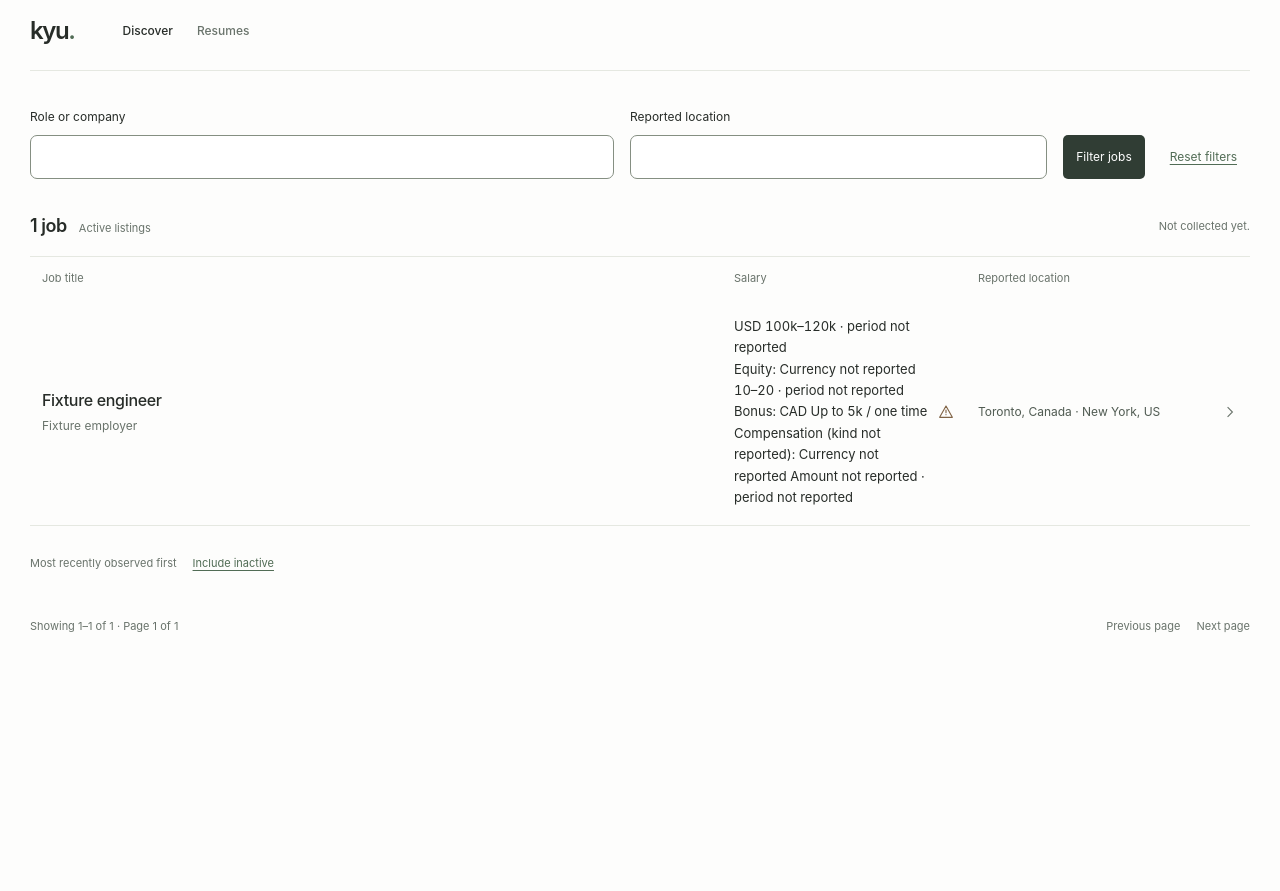
Test case: JobCatalog › preserves Greenhouse period unknown, component kinds and missing currencies; labels potentially stale pay
Expected: the picture named "previously collected pay may be stale" is shown, [938,404,954,420]
Click the heading that starts with "Fixture engineer".
click(640, 412)  # box [30,300,1250,524]
(page scrolled)
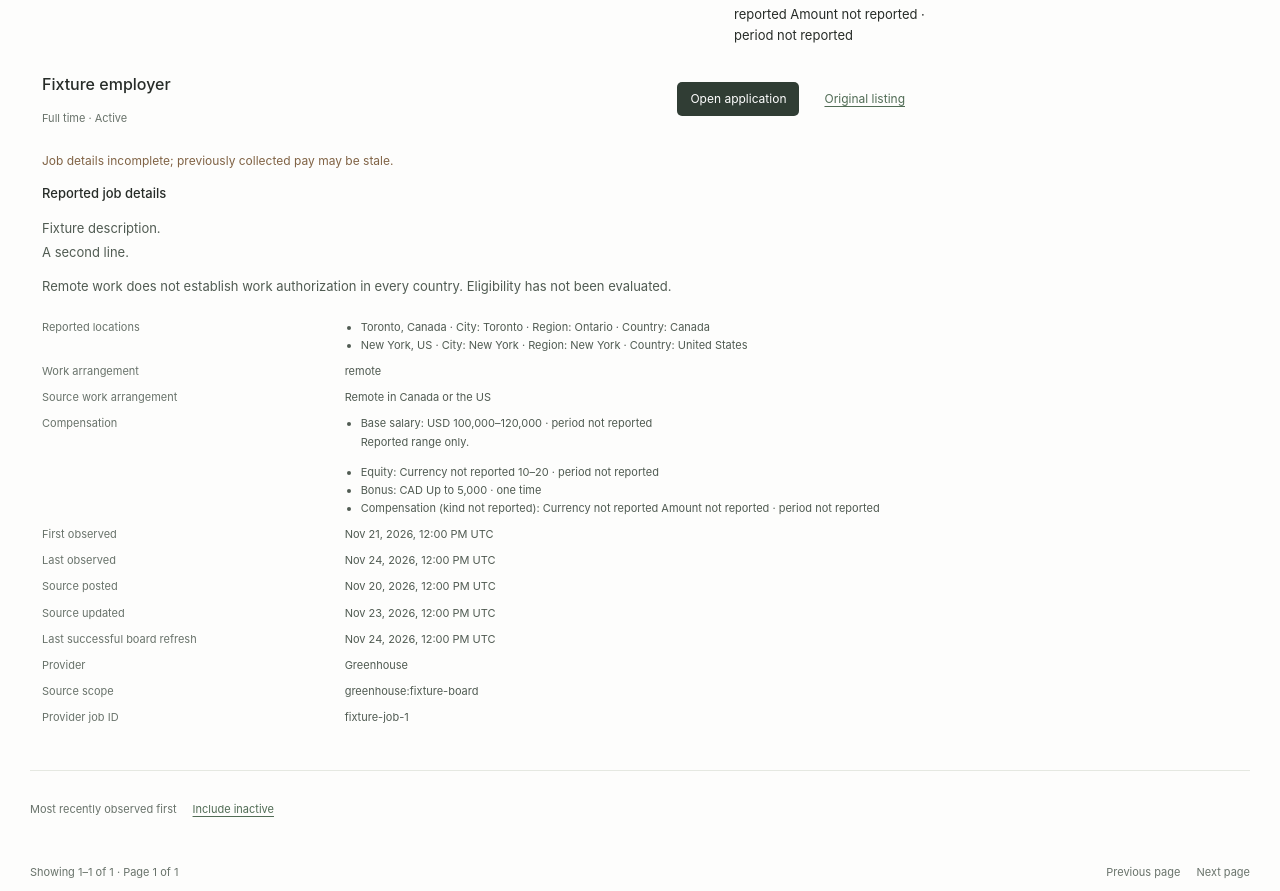
Expected: the text "Reported range only." is shown, [361,435,469,449]
